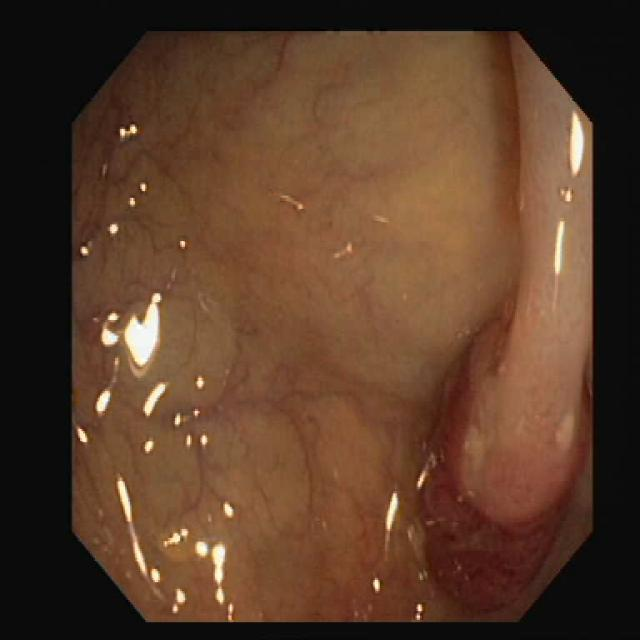tumor: (417, 416, 588, 620)
